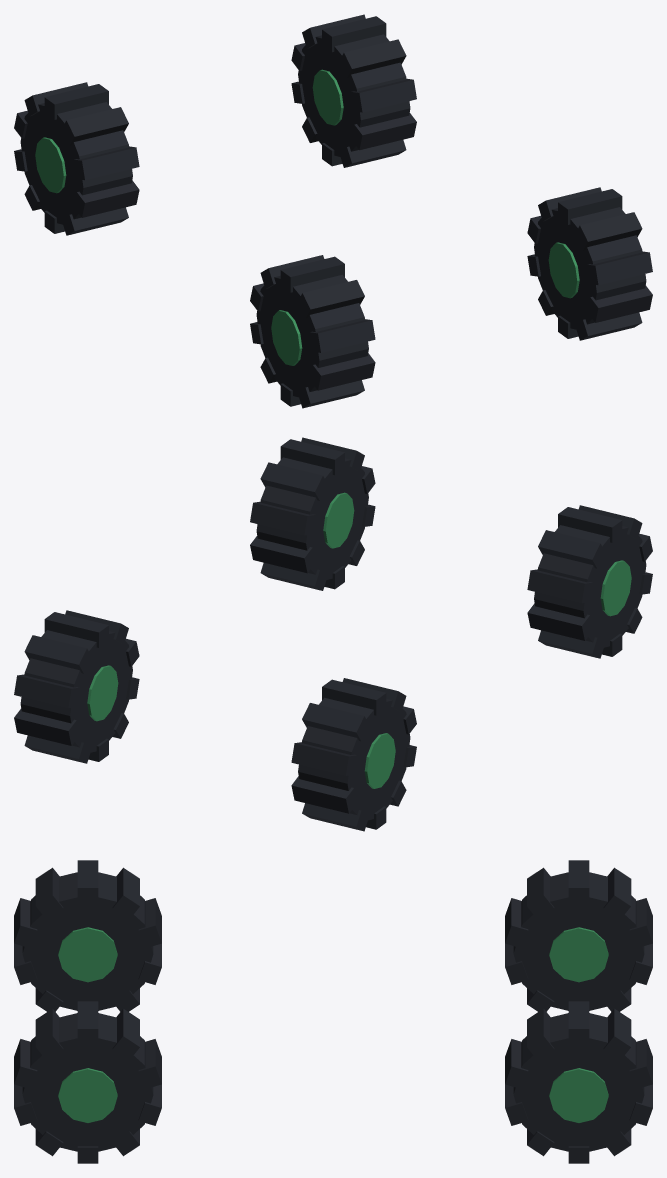
The model's file is upgrade-knobby_casters.glb.
3 renders of one model, top to bottom at view 1: azimuth 30°, elevation 25°; view 2: azimuth 150°, elevation 25°; view 3: azimuth 270°, elevation 25°, orthographic. The views are drawn at different scales.
Parts seen in each view (by area): view 1: upgrade-knobby_casters; view 2: upgrade-knobby_casters; view 3: upgrade-knobby_casters.
Part boxes in pixels (bbox=[...]): upgrade-knobby_casters: bbox=[14, 14, 652, 408]; upgrade-knobby_casters: bbox=[14, 437, 652, 831]; upgrade-knobby_casters: bbox=[14, 860, 652, 1163].
Size of the model in its own units: 1.34 by 0.5 by 2.15.
